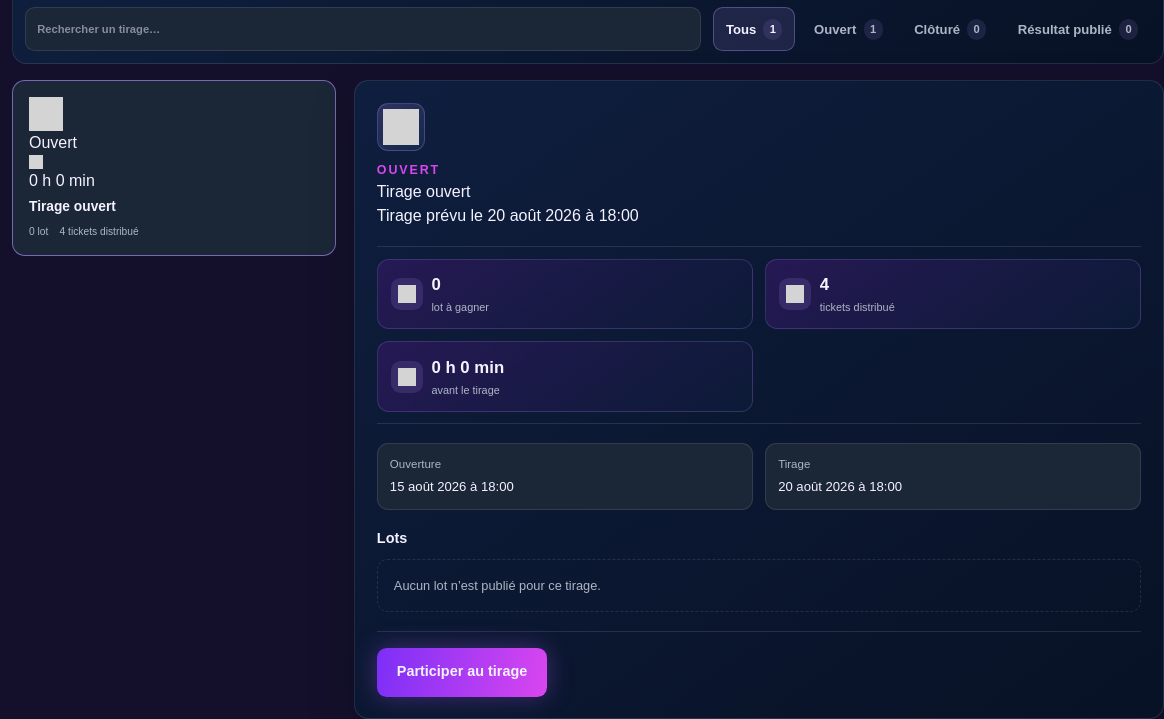
Test: ListeTirages › permet de participer à un tirage ouvert et confirme le ticket
(page scrolled)
Click the button "Participer au tirage" at point(462, 672), box [377, 648, 547, 697]
(page scrolled)
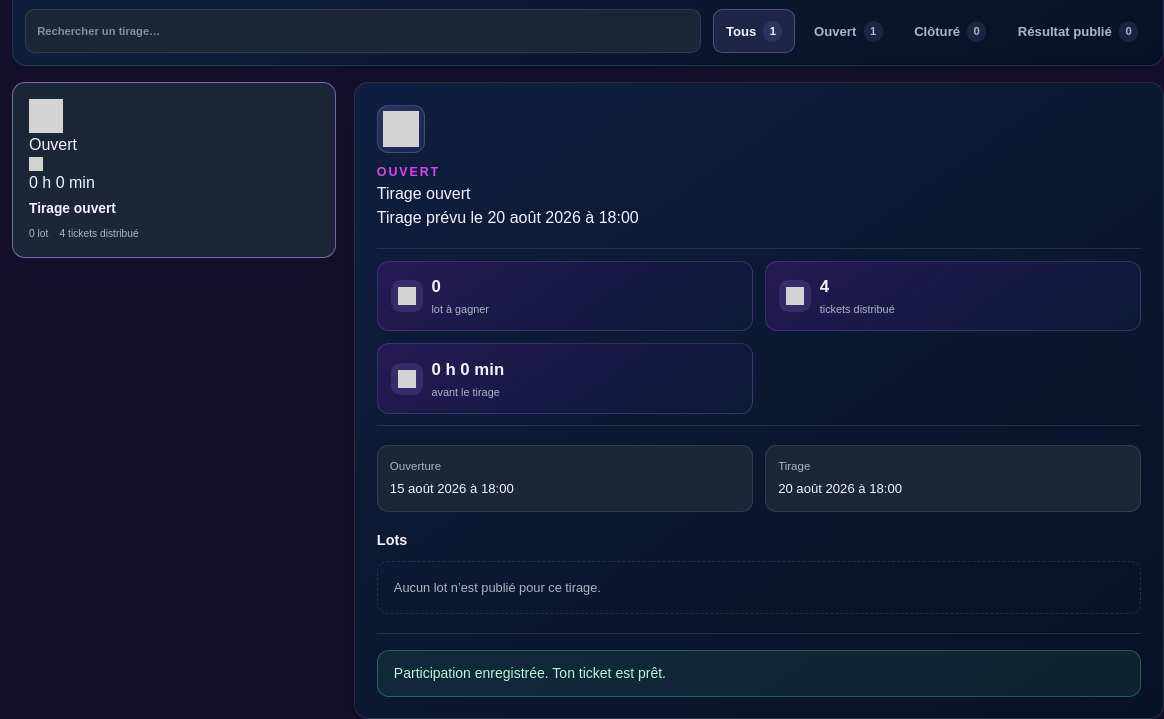
Now the text "Participation enregistrée. Ton ticket est prêt." is shown, box [377, 650, 1141, 697]
